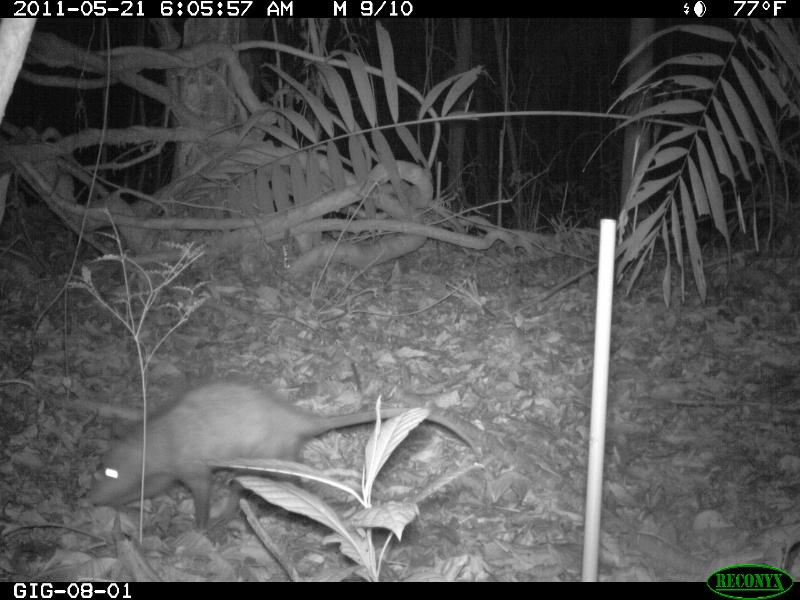opossum: (78, 374, 478, 523)
